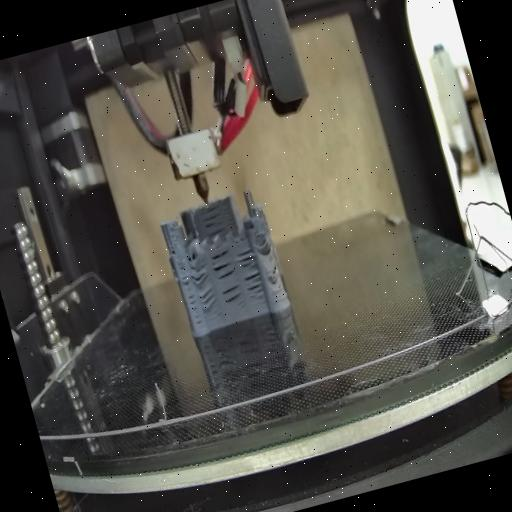cracks: (178, 264, 204, 330), (208, 245, 238, 281), (198, 200, 228, 236), (241, 270, 266, 300), (219, 280, 245, 308), (196, 286, 220, 316), (234, 244, 258, 269), (188, 264, 210, 286), (258, 236, 273, 254), (266, 261, 281, 277), (167, 242, 179, 258)
